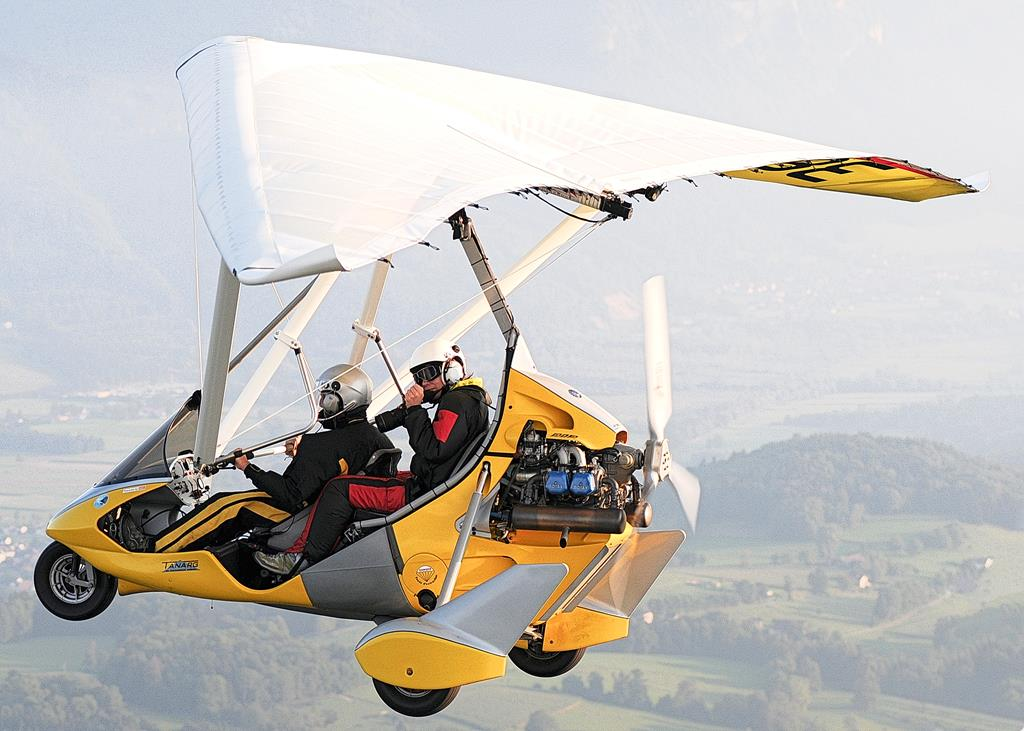Aeronef_de_loisir: (17, 23, 987, 720)
